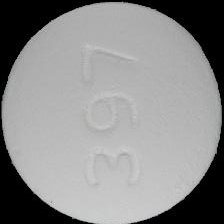68788-0397: (0, 0, 224, 224)
